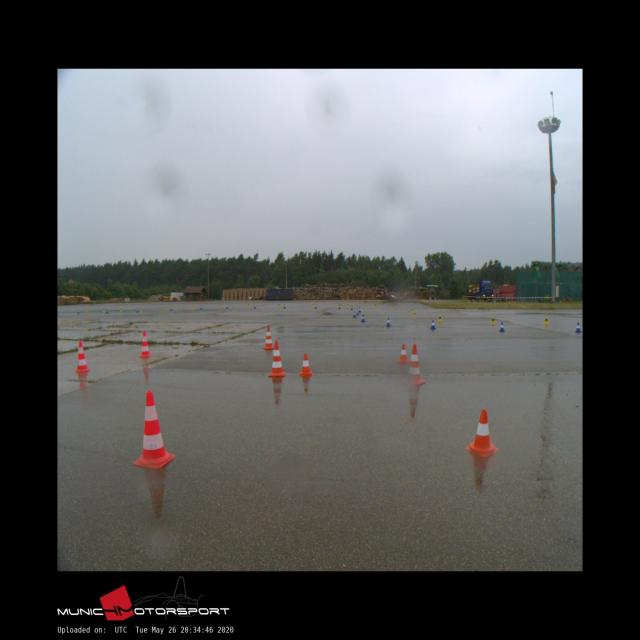blue_cone: (575, 322, 582, 332), (499, 322, 505, 331), (430, 320, 436, 329), (386, 318, 391, 326), (361, 315, 366, 322), (353, 311, 356, 318)
large_orange_cone: (132, 391, 175, 467), (404, 344, 425, 386), (269, 341, 285, 376), (76, 341, 90, 372), (139, 332, 152, 356), (262, 326, 275, 348)
orange_cone: (464, 409, 498, 456), (300, 354, 312, 375), (398, 344, 408, 362)
yellow_cone: (490, 316, 496, 324), (544, 316, 549, 324), (438, 314, 442, 322), (413, 311, 416, 317)
